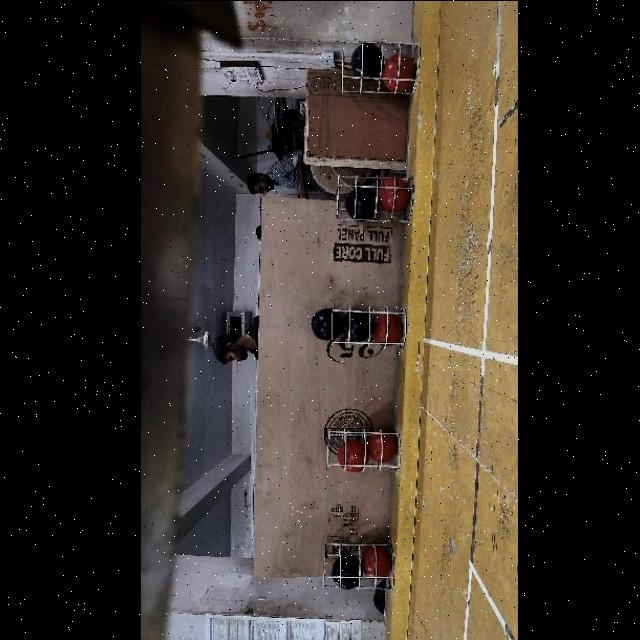P: (352, 44, 382, 82), (311, 307, 341, 340), (332, 553, 360, 588), (342, 310, 372, 342), (348, 188, 376, 220)
R: (367, 431, 401, 464), (386, 52, 416, 88), (363, 546, 393, 578), (379, 178, 408, 210), (338, 439, 368, 469), (372, 313, 401, 343)
S: (329, 172, 421, 226), (338, 38, 422, 96), (320, 423, 402, 475), (318, 540, 398, 592), (326, 305, 414, 351)
